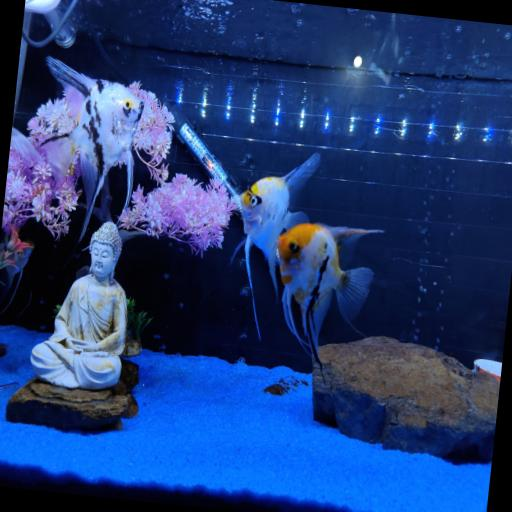Fish: (40, 57, 142, 240), (233, 154, 319, 339), (276, 224, 382, 371), (0, 227, 33, 314), (10, 128, 42, 163)
